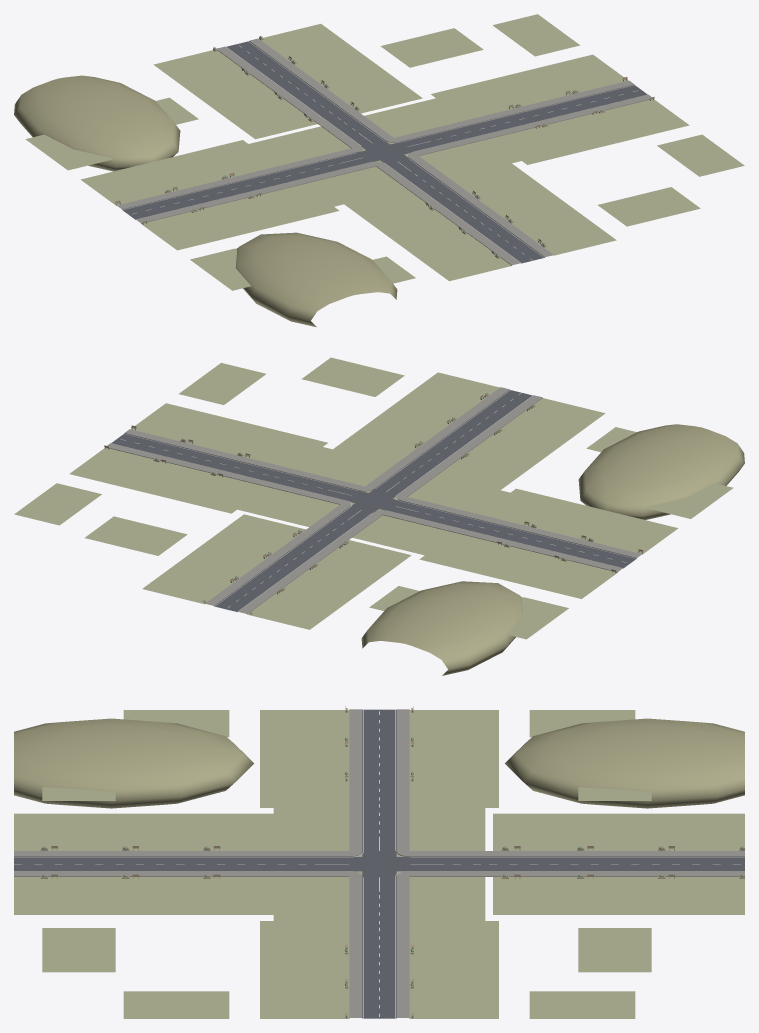
The picture shows the model from 3 angles, top to bottom: view 1: azimuth 30°, elevation 25°; view 2: azimuth 150°, elevation 25°; view 3: azimuth 270°, elevation 25°; orthographic projection. The views are drawn at different scales.
Parts seen in each view (by area): view 1: static; view 2: static; view 3: static.
Part boxes in pixels (<box>): static: <box>14,14,744,327</box>; static: <box>14,357,744,675</box>; static: <box>14,706,744,1018</box>.
Size of what is drawn, in the model's own units: 180 by 14.08 by 180.
